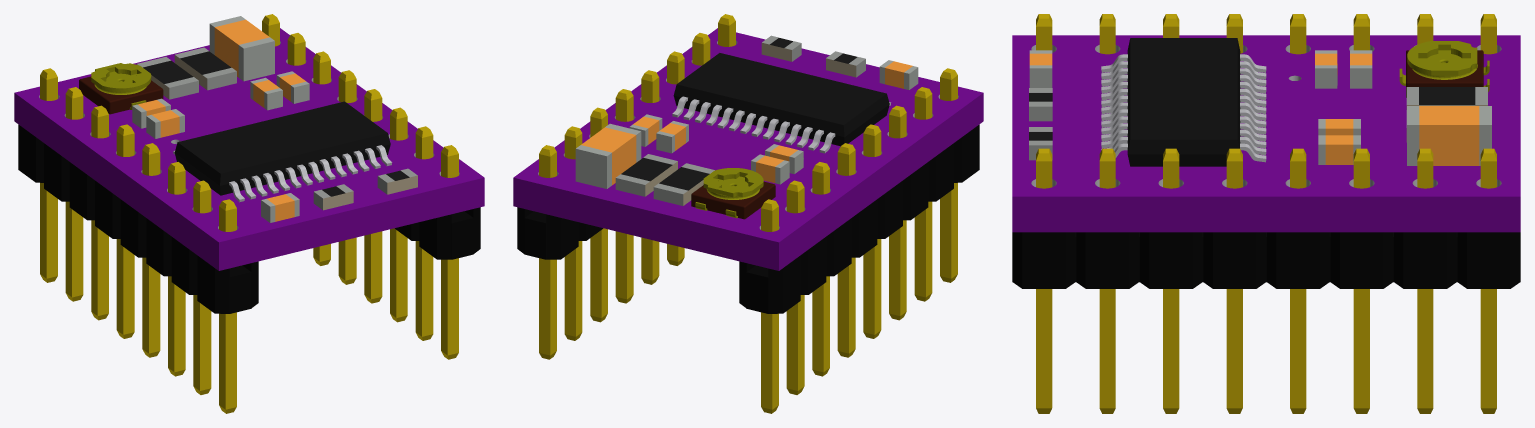
File: pololu-drv8825.glb
3 renders of one model, left to right at view 1: azimuth 30°, elevation 25°; view 2: azimuth 150°, elevation 25°; view 3: azimuth 270°, elevation 25°, orthographic. The views are drawn at different scales.
Visible parts, largest first — view 1: pololu-drv8825; view 2: pololu-drv8825; view 3: pololu-drv8825.
Boxes of the visible parts, left/top/right/bottom form: pololu-drv8825: left=14, top=14, right=484, bottom=413; pololu-drv8825: left=513, top=14, right=983, bottom=413; pololu-drv8825: left=1012, top=14, right=1520, bottom=413.
Size of the model in its own units: 15.24 by 11.87 by 20.32.
